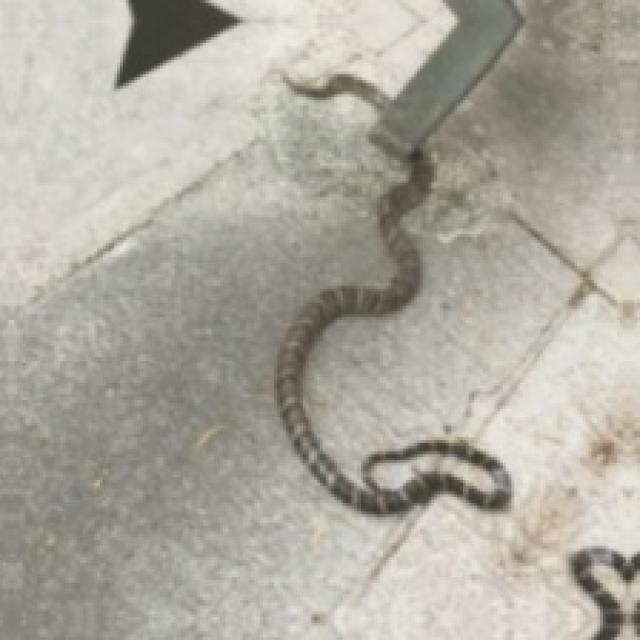king cobra: (274, 123, 509, 511)
